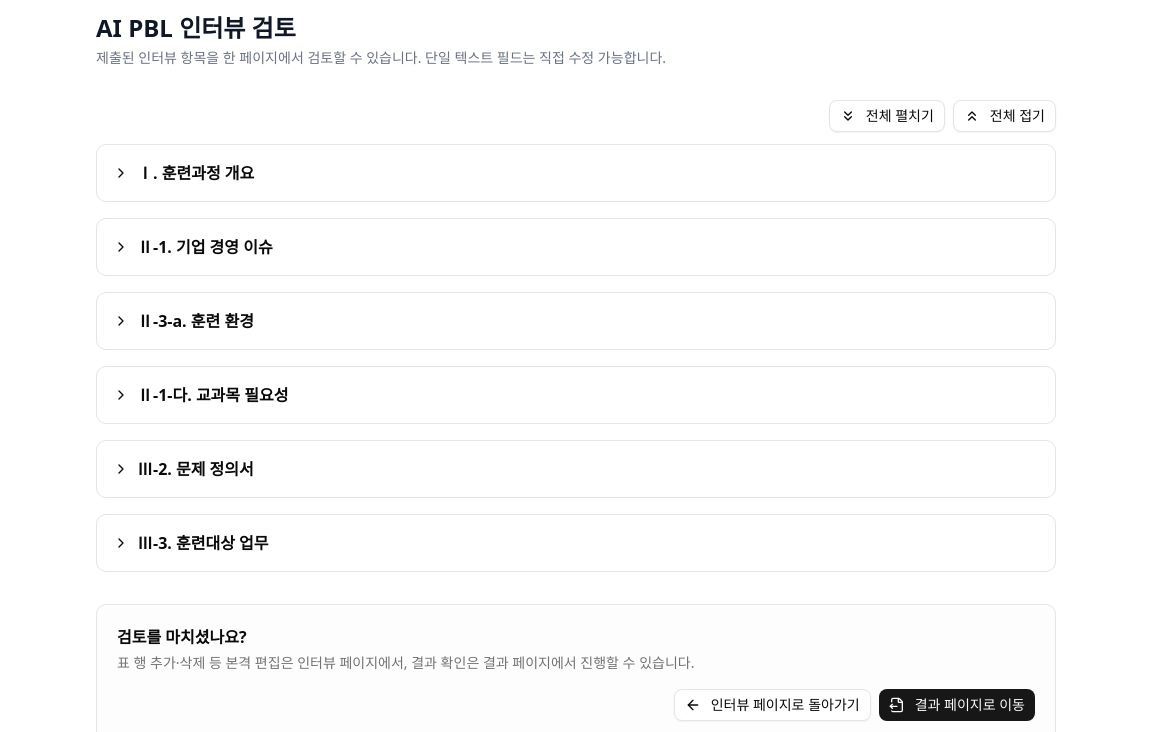
InterviewReviewClient › PBL 트랙 › Ⅱ-1·Ⅱ-2·Ⅱ-3 카드 클릭으로 펼치기 가능
This screenshot has width=1152, height=732.
Click the button "Ⅱ-3-a. 훈련 환경" at {"x": 195, "y": 321}, box [113, 309, 1039, 333]
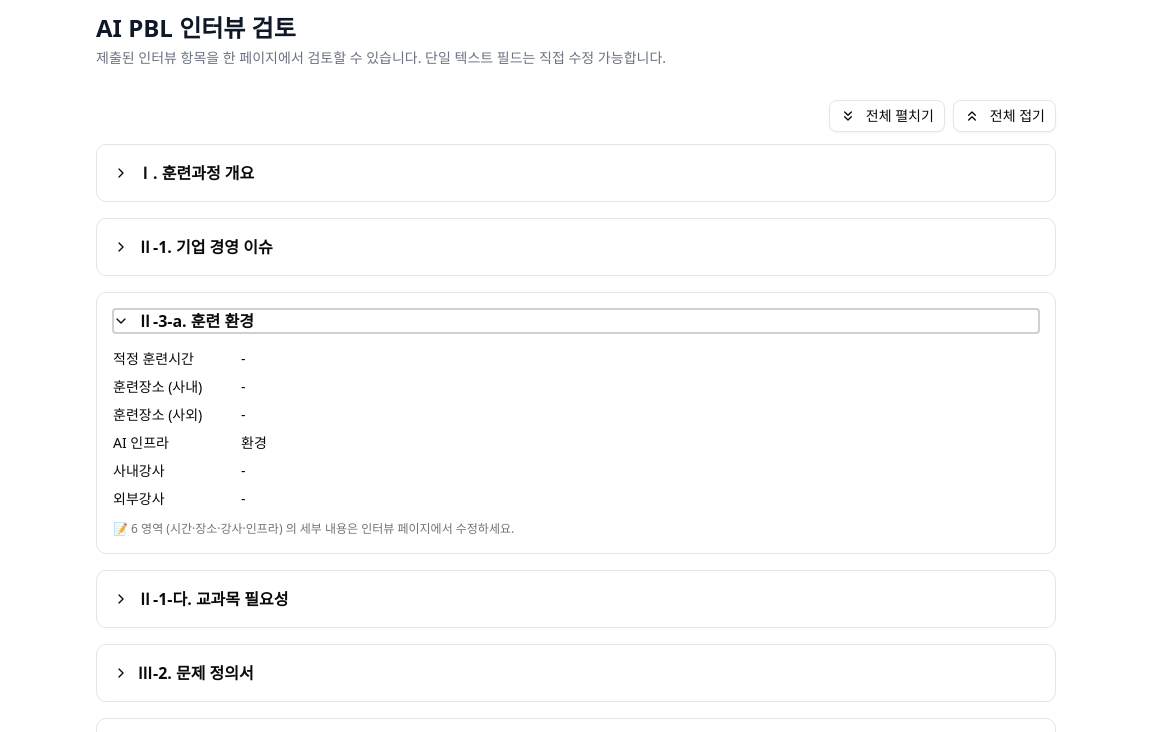
Now the text "환경" is shown, box [241, 433, 267, 452]
